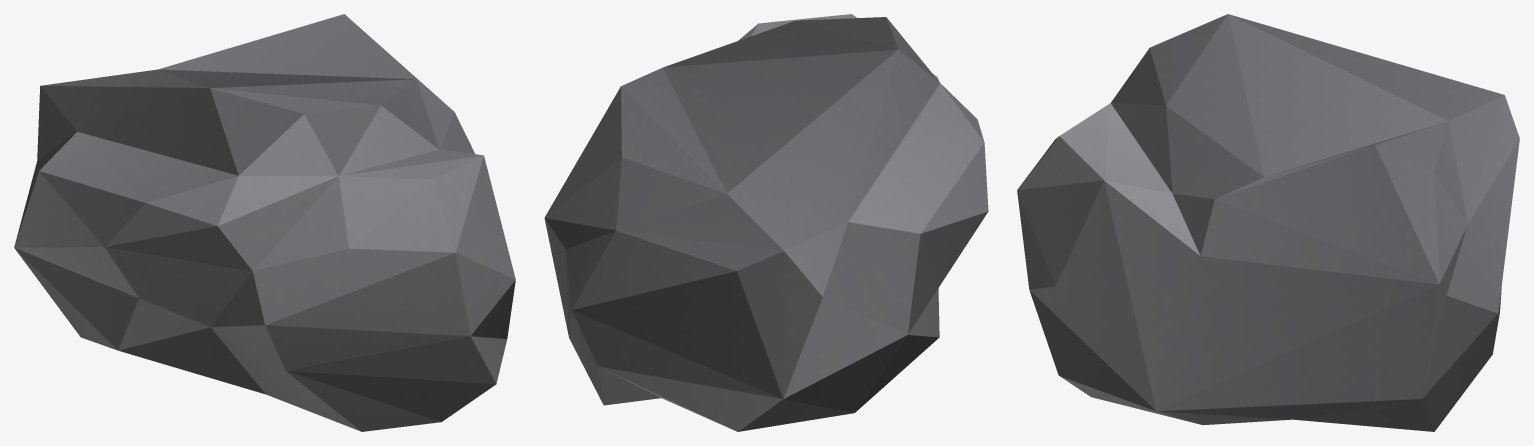
File: Rock_Big_1.fbx
The picture shows the model from 3 angles, left to right: view 1: azimuth 30°, elevation 25°; view 2: azimuth 150°, elevation 25°; view 3: azimuth 270°, elevation 25°; orthographic projection. The views are drawn at different scales.
Visible parts, largest first — view 1: Group61035; view 2: Group61035; view 3: Group61035.
Boxes of the visible parts, box(x1,y1,x2,y2) form: Group61035: box(14, 14, 515, 431); Group61035: box(544, 14, 988, 431); Group61035: box(1017, 14, 1519, 431).
Bounding box in the file's own units: 515 × 460 × 644.
